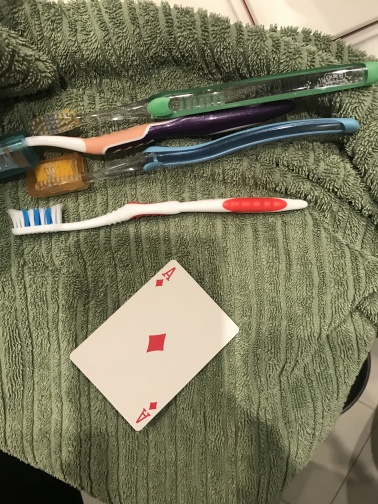ace: (68, 258, 241, 433)
